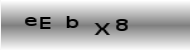8: (115, 18, 128, 31)
E: (39, 16, 51, 29)
X: (94, 22, 110, 36)
b: (66, 15, 79, 29)
e: (24, 16, 37, 27)
